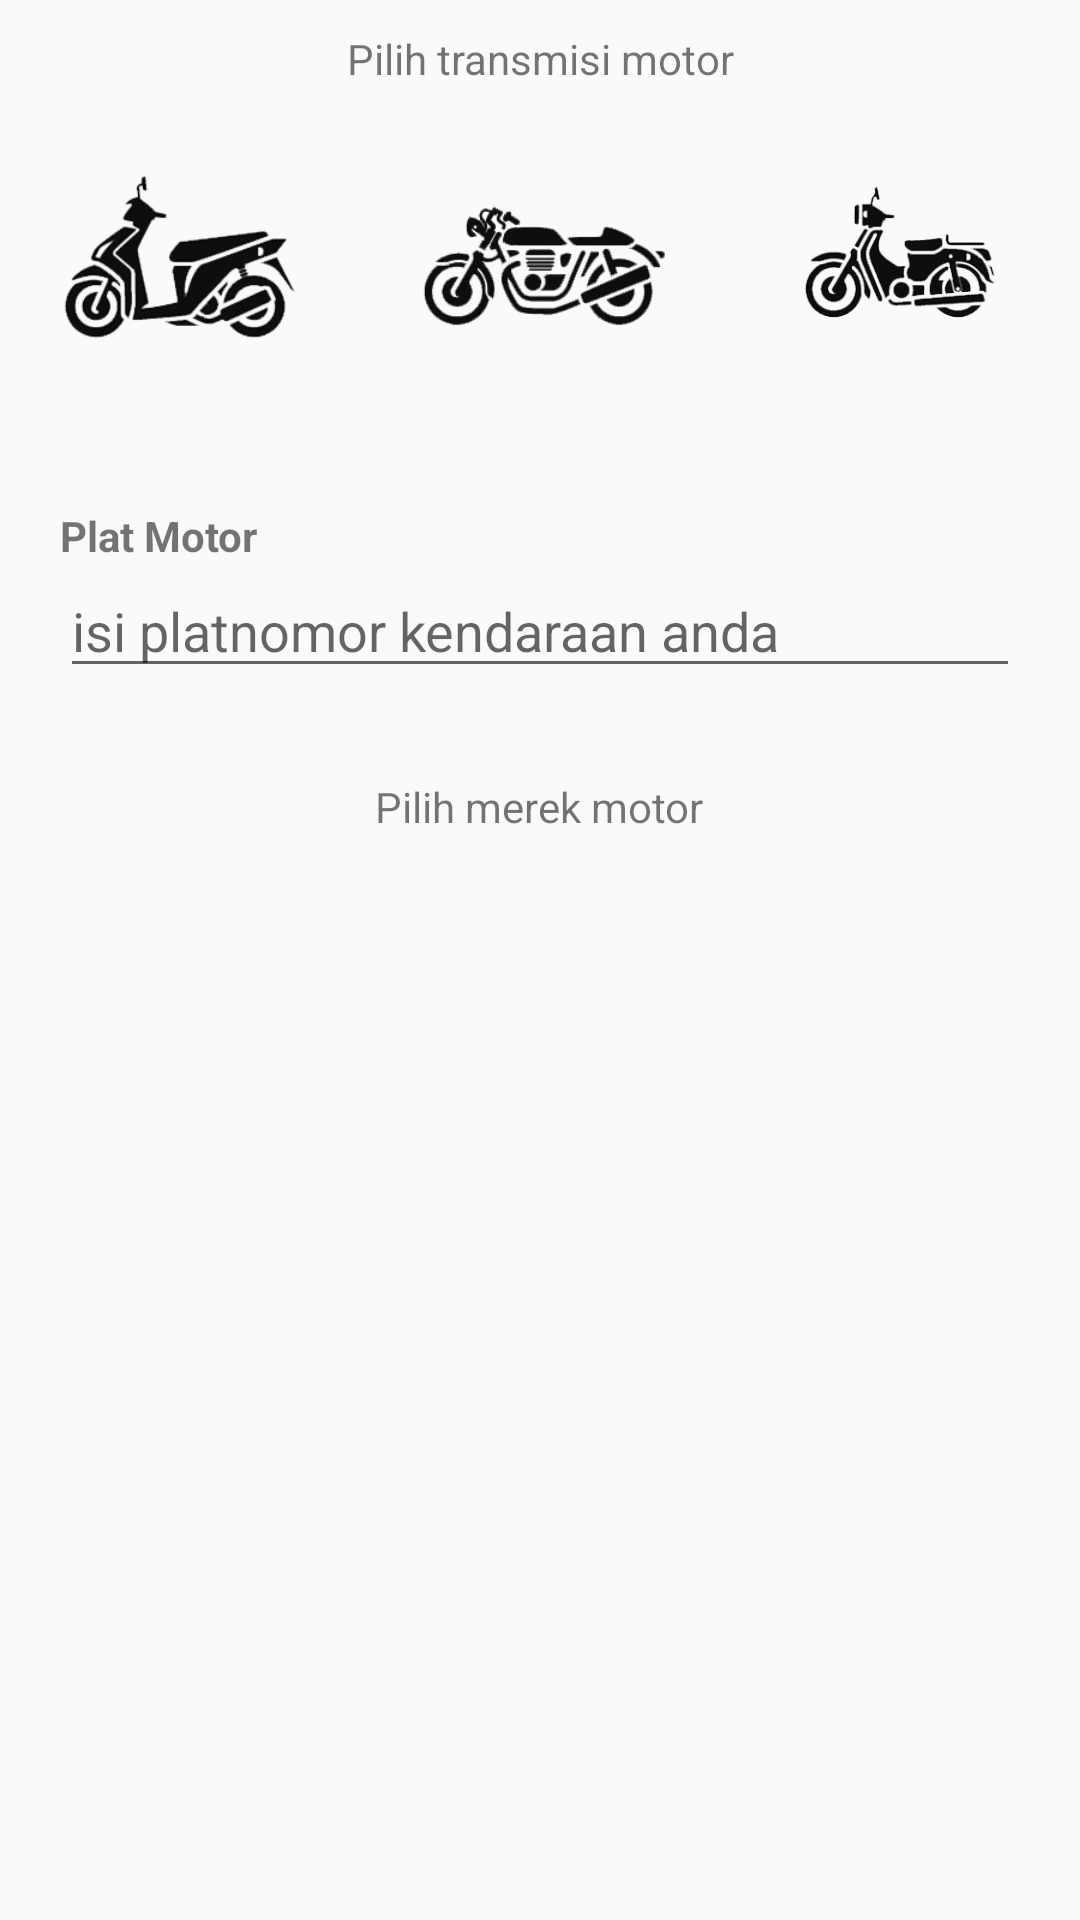

Named icons in this screenshot (1080 × 1920) and their bounding boxes, (x1, y1, x2, y2):
motorcycle: (424, 207, 665, 325)
scooter: (64, 176, 295, 338)
